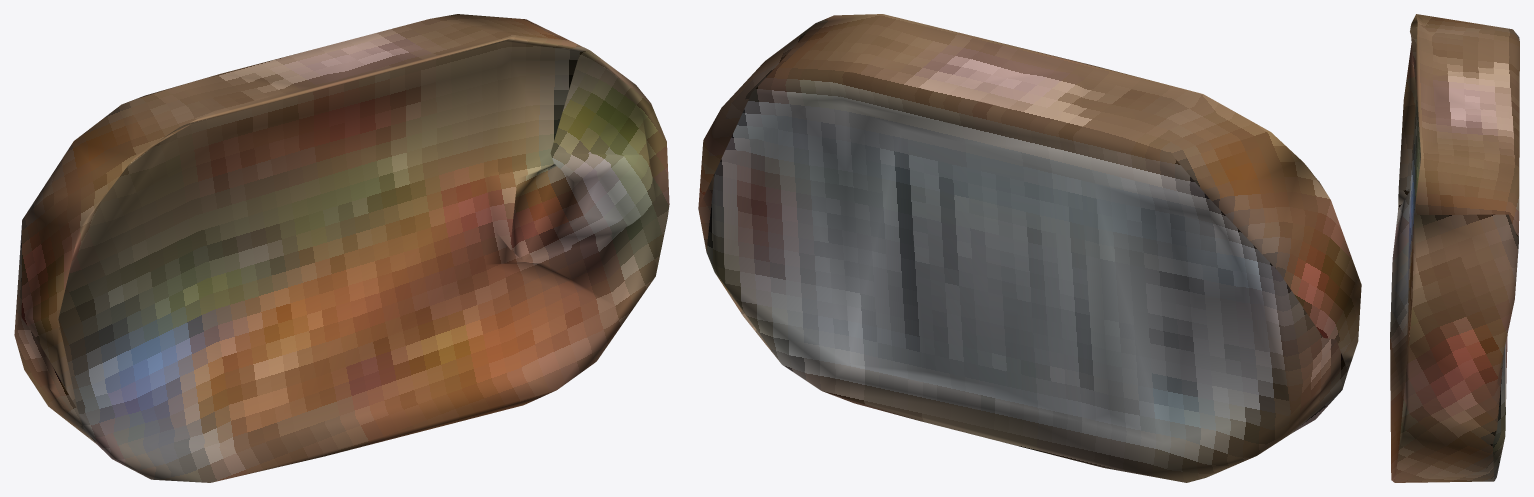
File: Polar_Herring_Fillets_Smoked_Peppered_705_oz_total-low.glb
3 renders of one model, left to right at view 1: azimuth 30°, elevation 25°; view 2: azimuth 150°, elevation 25°; view 3: azimuth 270°, elevation 25°, orthographic. The views are drawn at different scales.
Visible parts, largest first — view 1: Polar_Herring_Fillets_Smoked_Peppered_705_oz_total; view 2: Polar_Herring_Fillets_Smoked_Peppered_705_oz_total; view 3: Polar_Herring_Fillets_Smoked_Peppered_705_oz_total.
Boxes of the visible parts, box(x1,y1,x2,y2) form: Polar_Herring_Fillets_Smoked_Peppered_705_oz_total: box(14, 14, 669, 482); Polar_Herring_Fillets_Smoked_Peppered_705_oz_total: box(698, 14, 1361, 482); Polar_Herring_Fillets_Smoked_Peppered_705_oz_total: box(1390, 14, 1519, 482).
Bounding box in the file's own units: 0.1488 × 0.0838 × 0.0306.
Materials: 1 (1 with a texture image).
